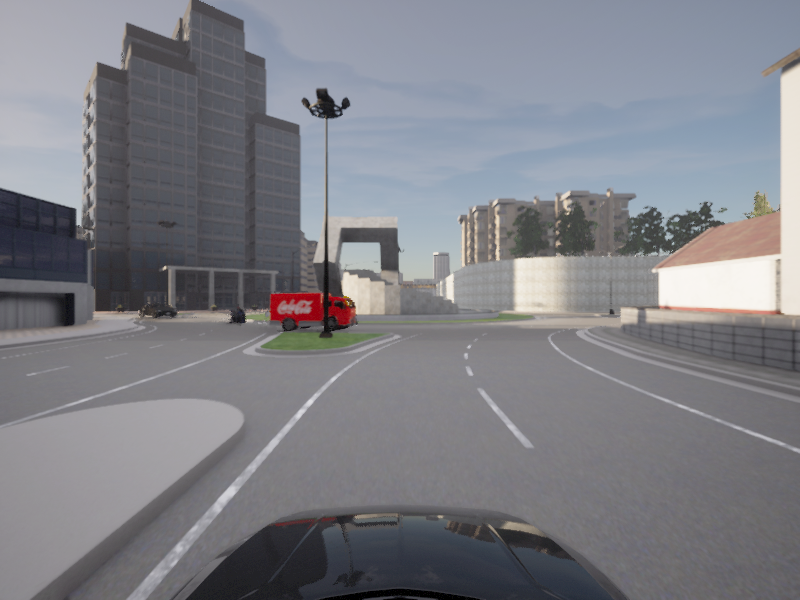vehicle: (267, 292, 359, 333), (225, 305, 250, 325)
